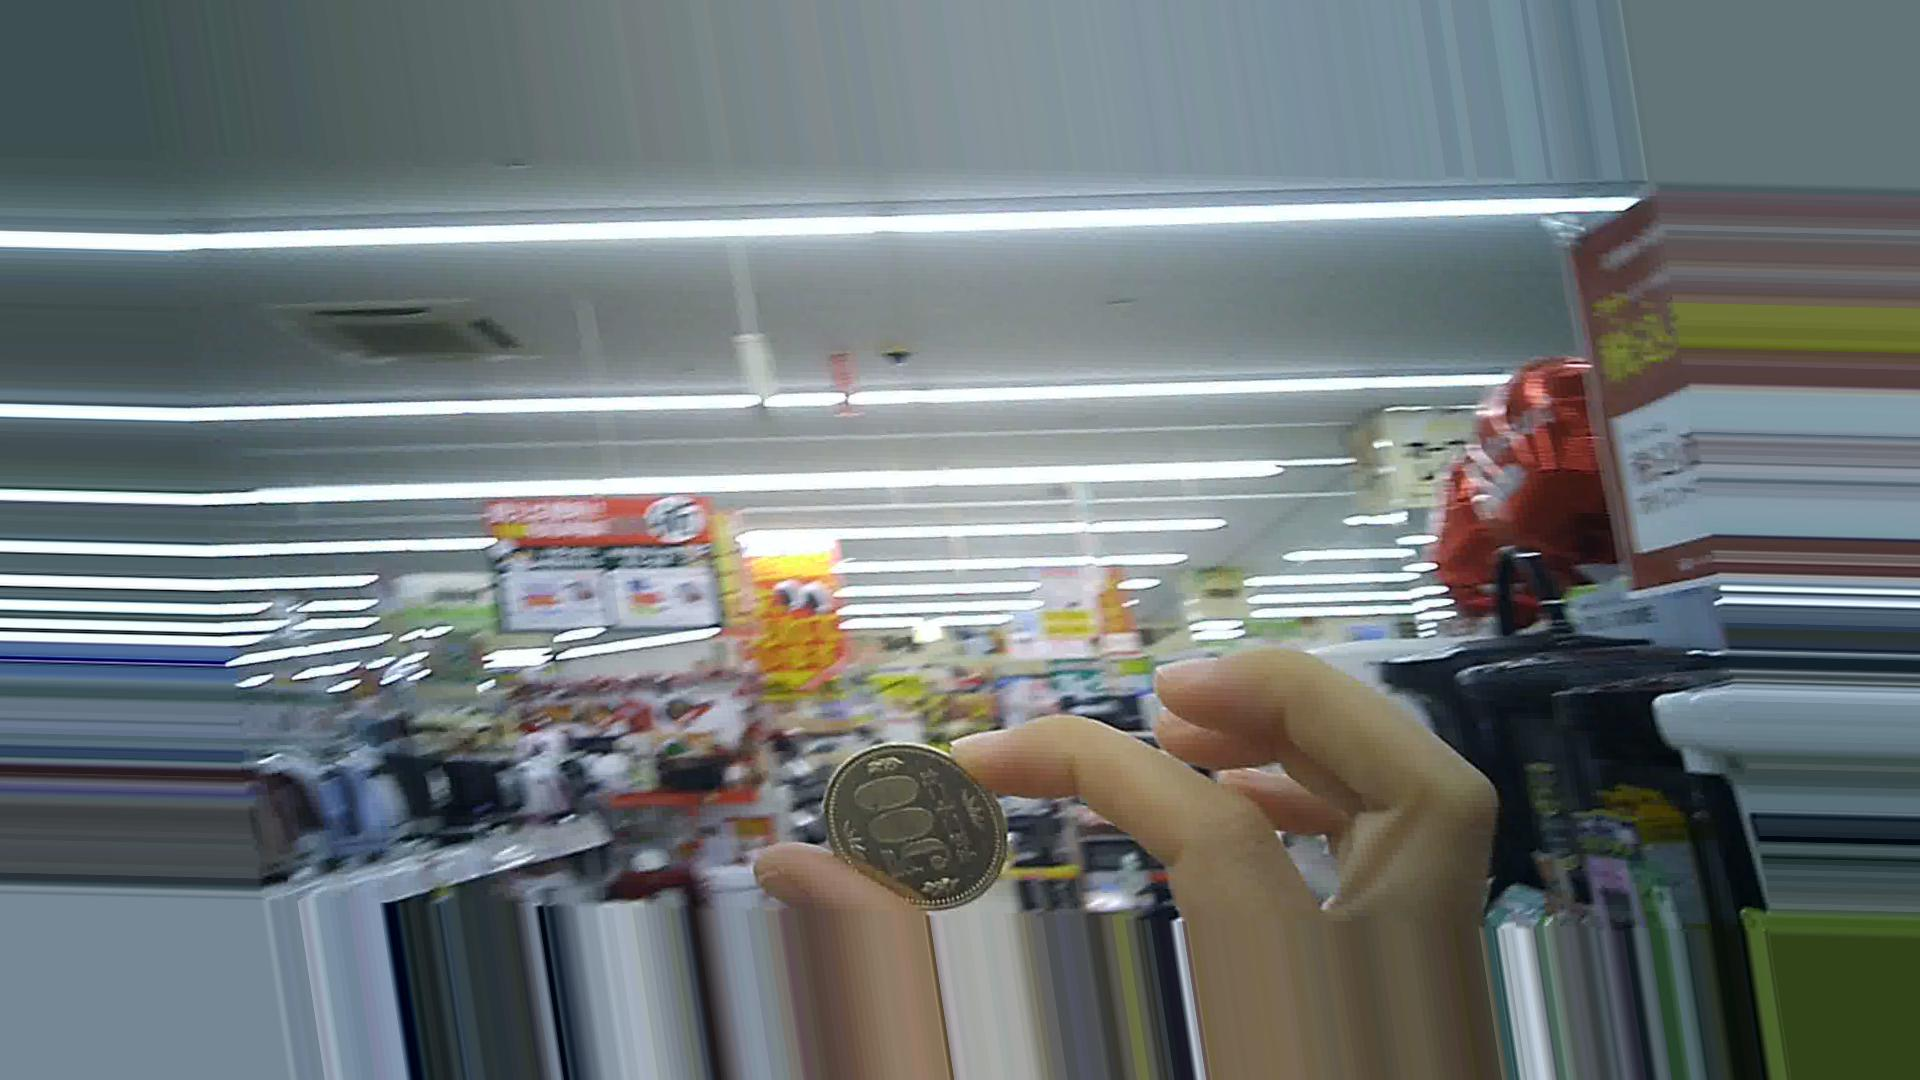500 Yen: (816, 737, 1015, 913)
